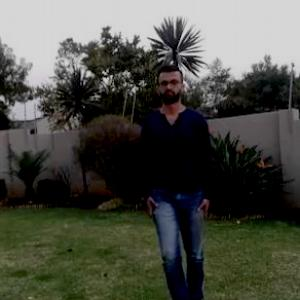follow: (145, 64, 213, 299)
